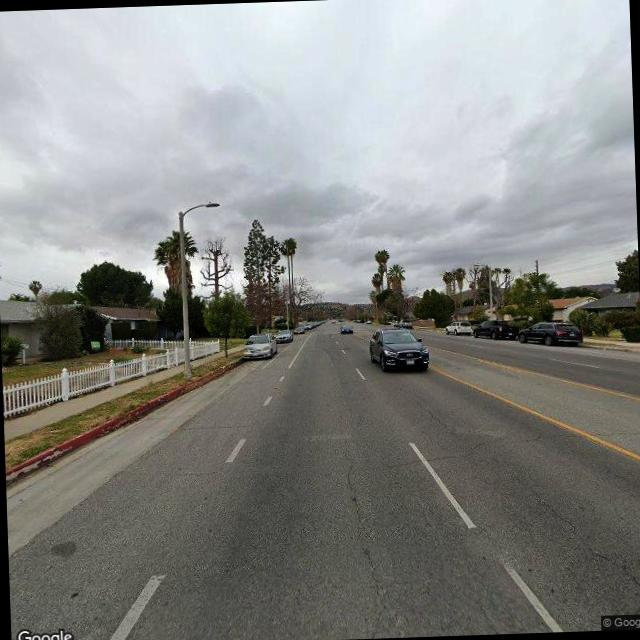pothole: (531, 487, 640, 611), (340, 445, 390, 624)
